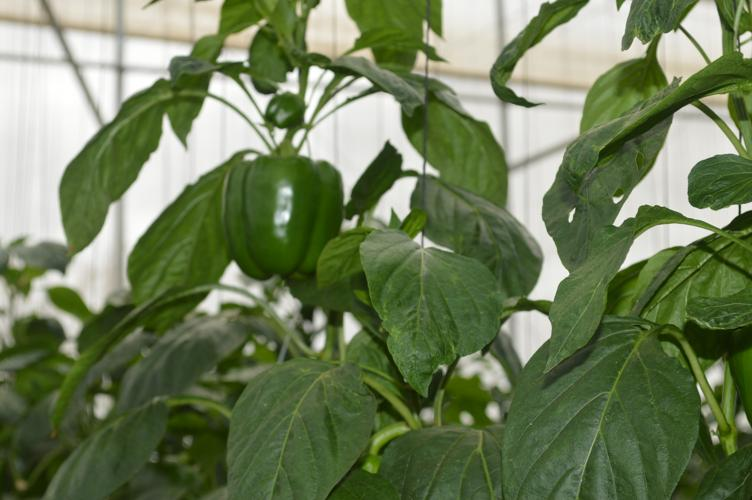BellPepper: (211, 156, 345, 279)
